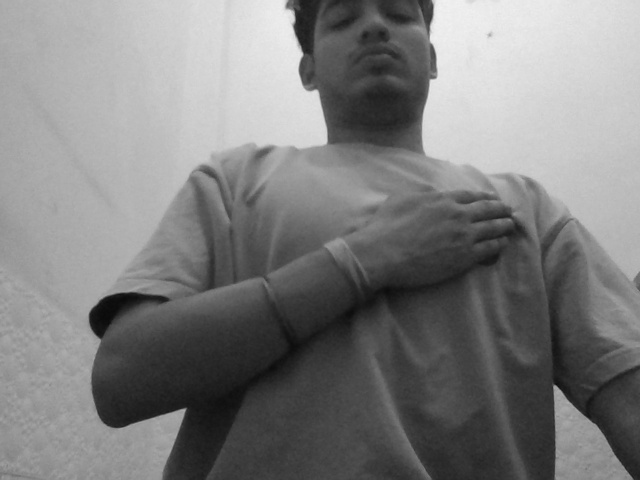Sorry: (331, 151, 544, 324)
